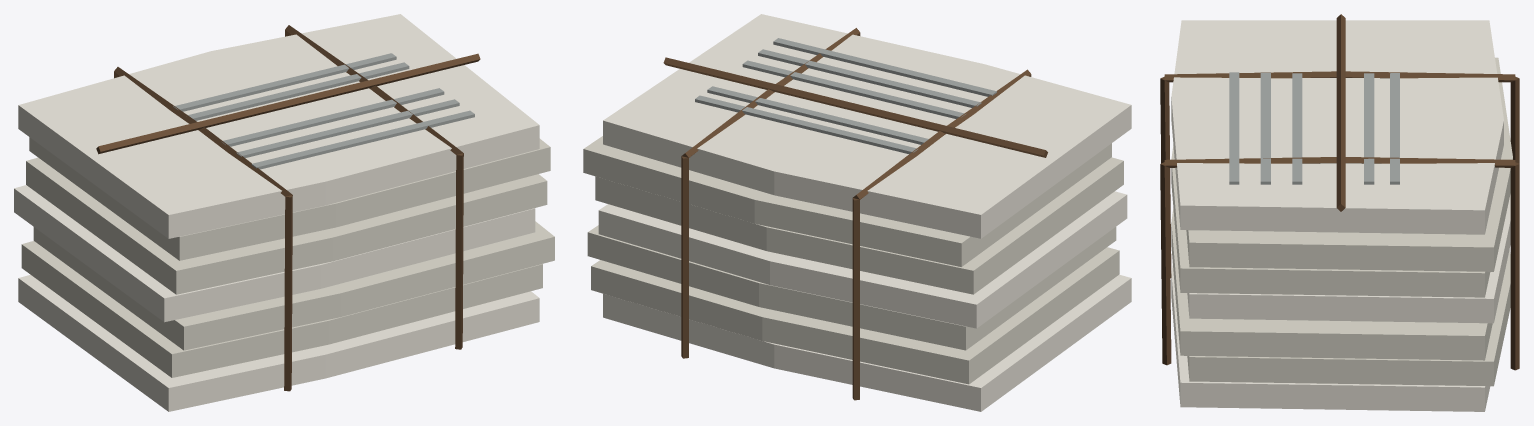
Rendered from b04_twine_bound_newspaper_bundle.glb.
3 renders of one model, left to right at view 1: azimuth 30°, elevation 25°; view 2: azimuth 150°, elevation 25°; view 3: azimuth 270°, elevation 25°, orthographic. The views are drawn at different scales.
Visible parts, largest first — view 1: b04_twine_bound_newspaper_bundle; view 2: b04_twine_bound_newspaper_bundle; view 3: b04_twine_bound_newspaper_bundle.
Boxes of the visible parts, x1=… form: b04_twine_bound_newspaper_bundle: x1=14, y1=14, x2=554, y2=411; b04_twine_bound_newspaper_bundle: x1=583, y1=14, x2=1131, y2=411; b04_twine_bound_newspaper_bundle: x1=1160, y1=14, x2=1519, y2=411.
Bounding box in the file's own units: 0.416 × 0.213 × 0.32.
